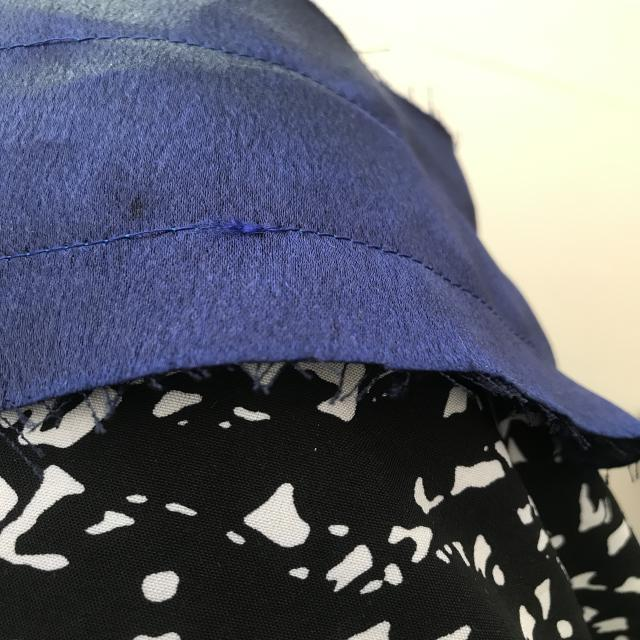skip: (106, 218, 194, 255)
